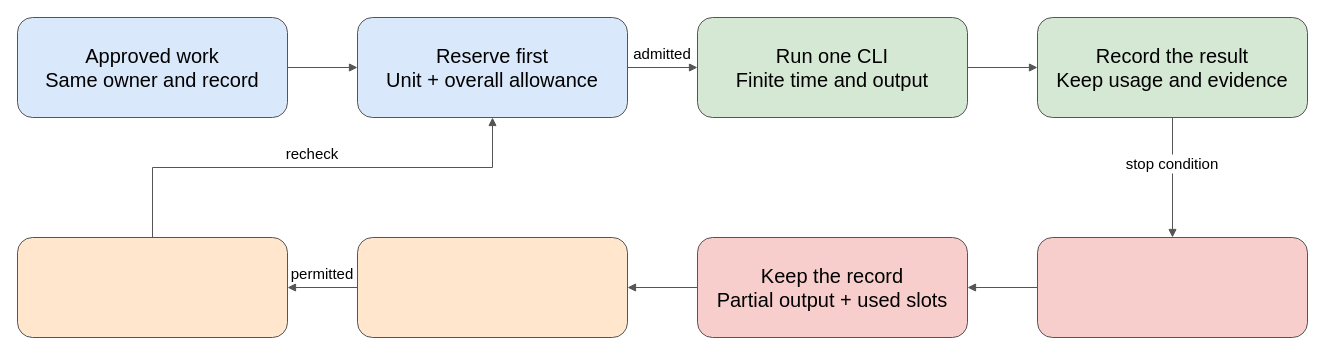
The diagram is 1325 pixels wide and 355 high, and some of its shapes have lost their labels. The box of each missing label's shape, as (x1, y1, x2, y2) in pixels:
Resolve the cause Check resume authority: (356, 236, 628, 338)
Resume the same record Remaining allowance only: (16, 236, 288, 338)
Stop on a limit or failure No automatic new attempt: (1036, 236, 1308, 338)
